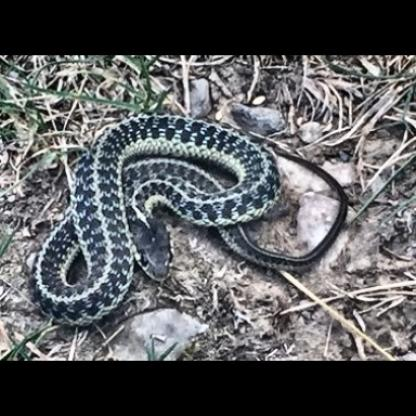Snake: (31, 109, 348, 325)
